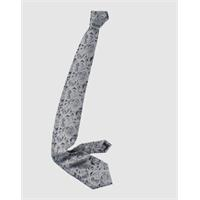tie: (51, 11, 112, 190)
